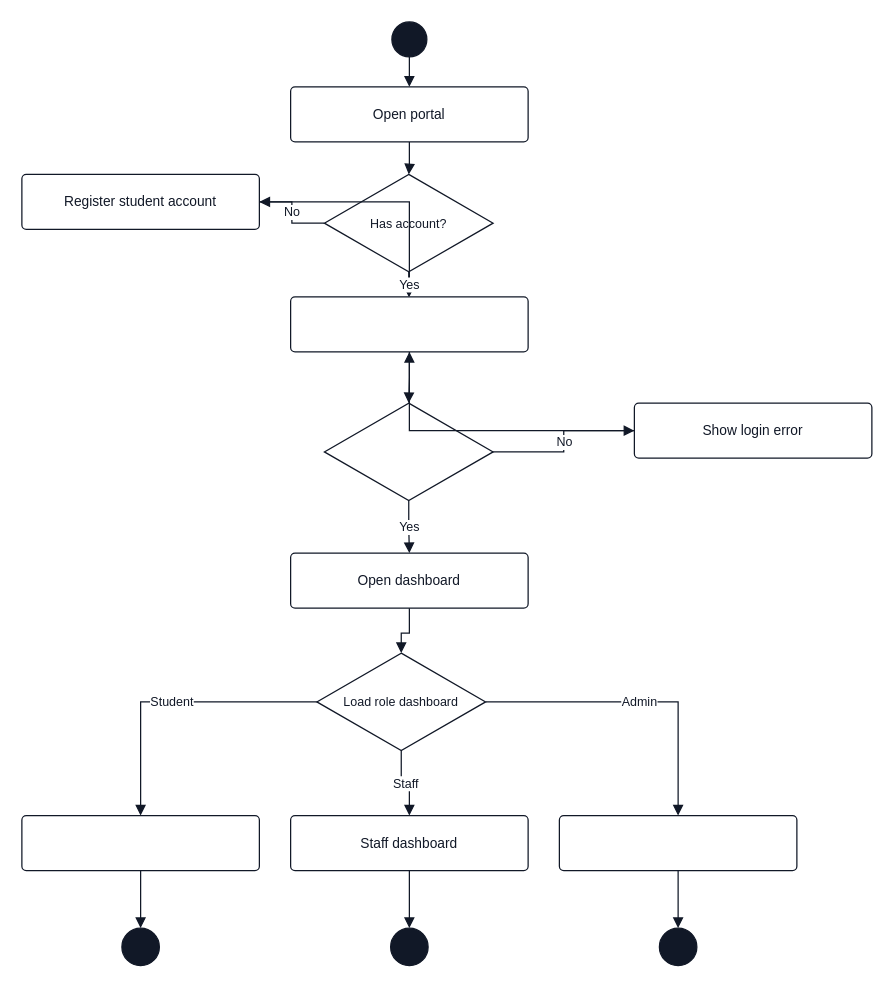
Image size: 894x988. Some labels were removed from this diagram. The box of each missing label's shape, as (x1, y1, x2, y2) in pixels:
Admin dashboard: (558, 814, 797, 871)
Credentials valid?: (323, 402, 493, 501)
Login: (289, 296, 528, 352)
Student dashboard: (21, 814, 259, 871)
